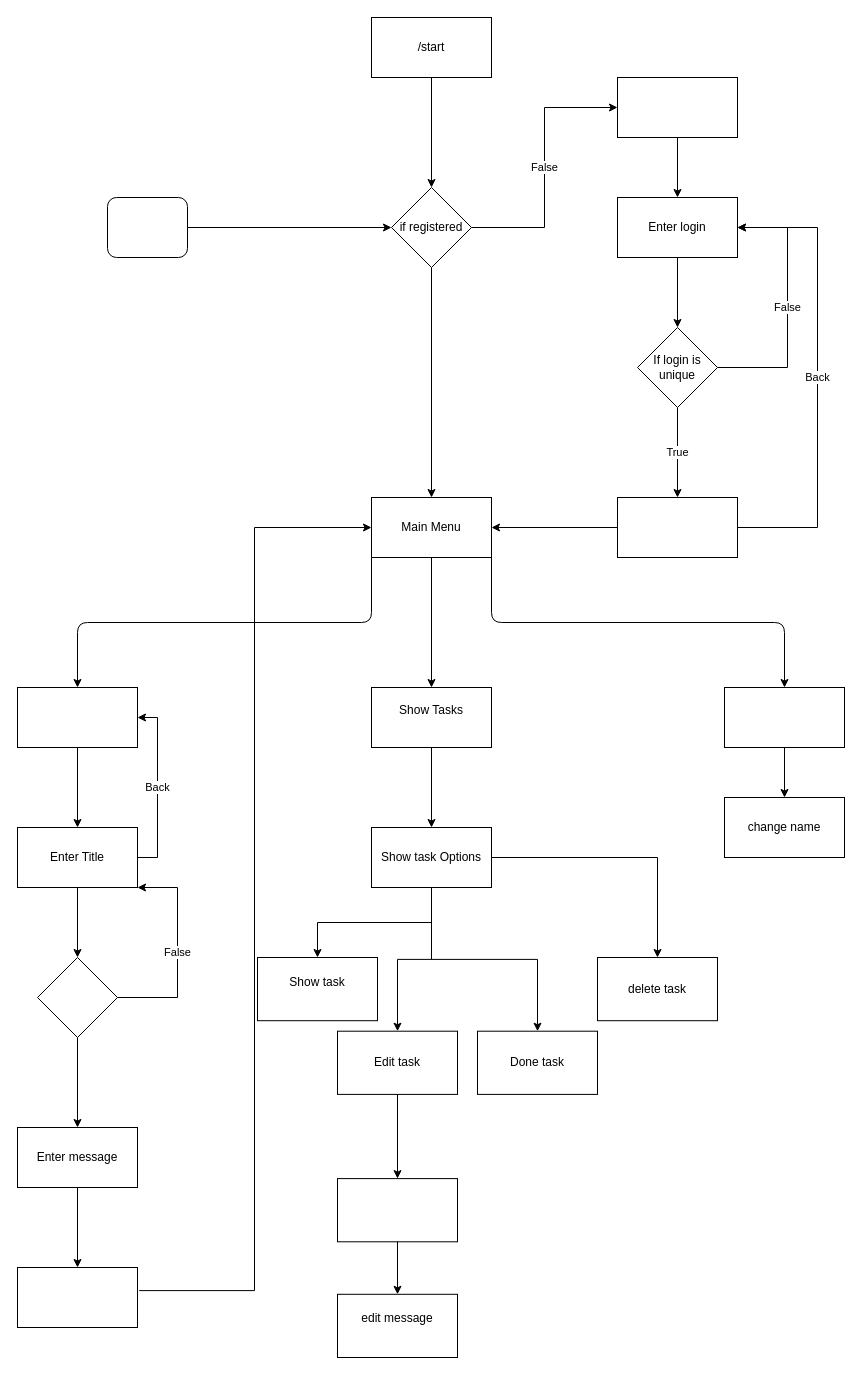
The diagram is 862 pixels wide and 1375 high, and some of its shapes have lost their labels. The centre of each missing label's shape, as x and y in pixels:
/m ain: the point at 147,227
/register: the point at 677,107
Create Task: the point at 77,717
edit title: the point at 397,1210
Enter Name: the point at 677,527
If unique: the point at 77,997
load task to db: the point at 77,1297
Settings: the point at 784,717
